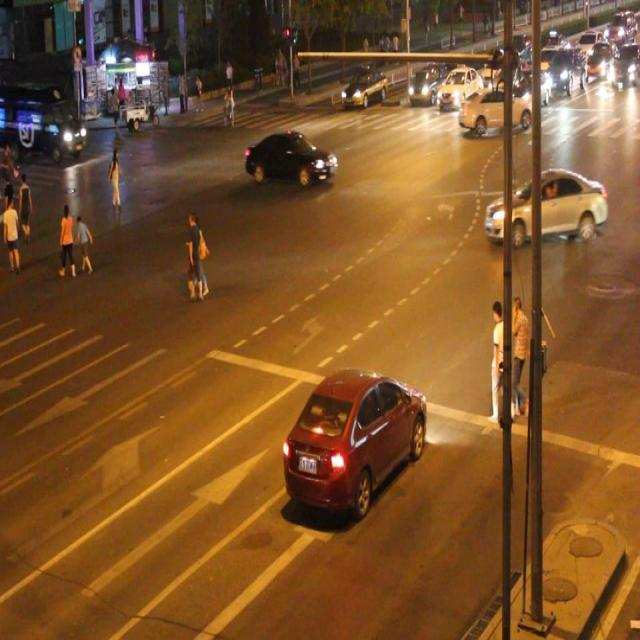car: (281, 365, 426, 516), (483, 167, 608, 241), (245, 130, 336, 188), (457, 87, 535, 132), (439, 66, 482, 107), (343, 67, 387, 106), (408, 65, 441, 106)
truck: (1, 84, 87, 160)
